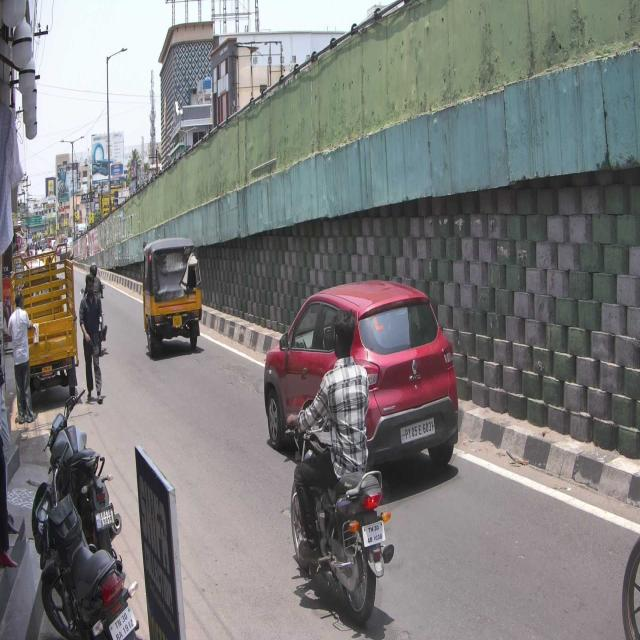single_rider: (282, 306, 396, 621)
